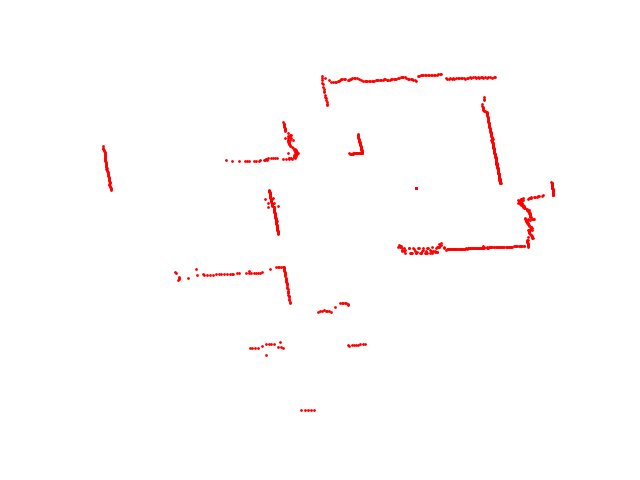person: (314, 301, 352, 315)
